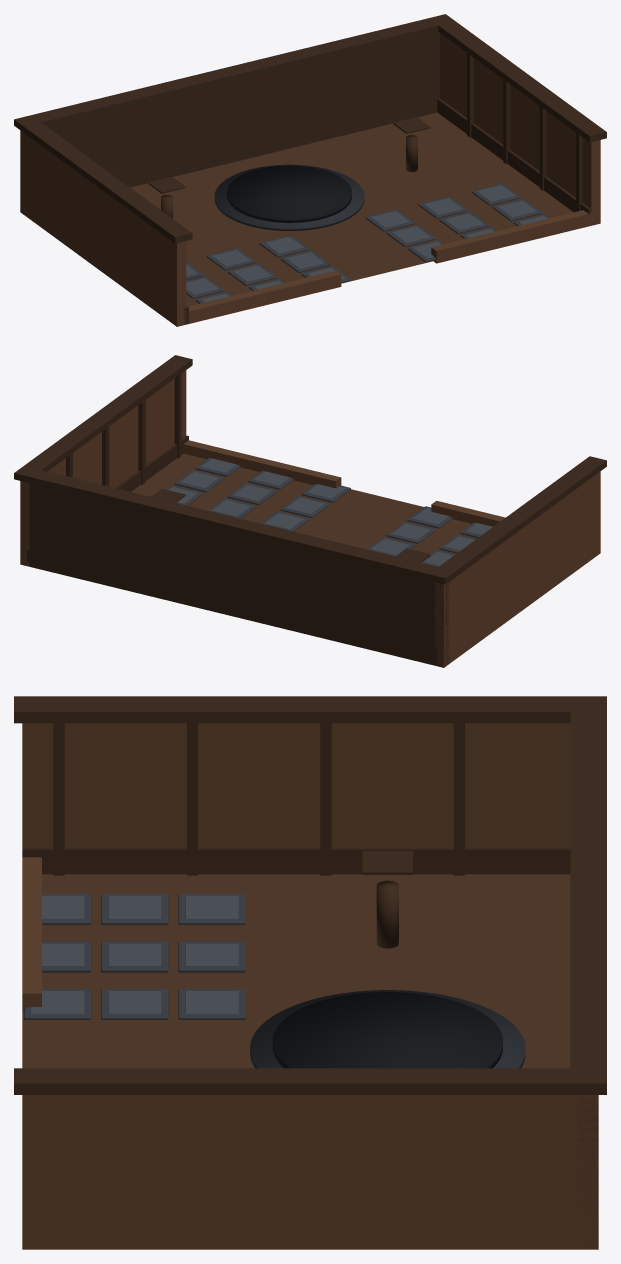
File: hall.glb
3 renders of one model, top to bottom at view 1: azimuth 30°, elevation 25°; view 2: azimuth 150°, elevation 25°; view 3: azimuth 270°, elevation 25°, orthographic. The views are drawn at different scales.
Visible parts, largest first — view 1: hall_props, hall_floor; view 2: hall_props, hall_floor; view 3: hall_props, hall_floor.
Boxes of the visible parts, bbox=[...] form: hall_props: bbox=[14, 14, 606, 326]; hall_floor: bbox=[130, 112, 573, 306]; hall_props: bbox=[14, 355, 606, 667]; hall_floor: bbox=[131, 453, 477, 554]; hall_props: bbox=[14, 696, 606, 1249]; hall_floor: bbox=[22, 874, 570, 1068].
Size of the model in its own units: 32.6 by 6.65 by 21.1.
